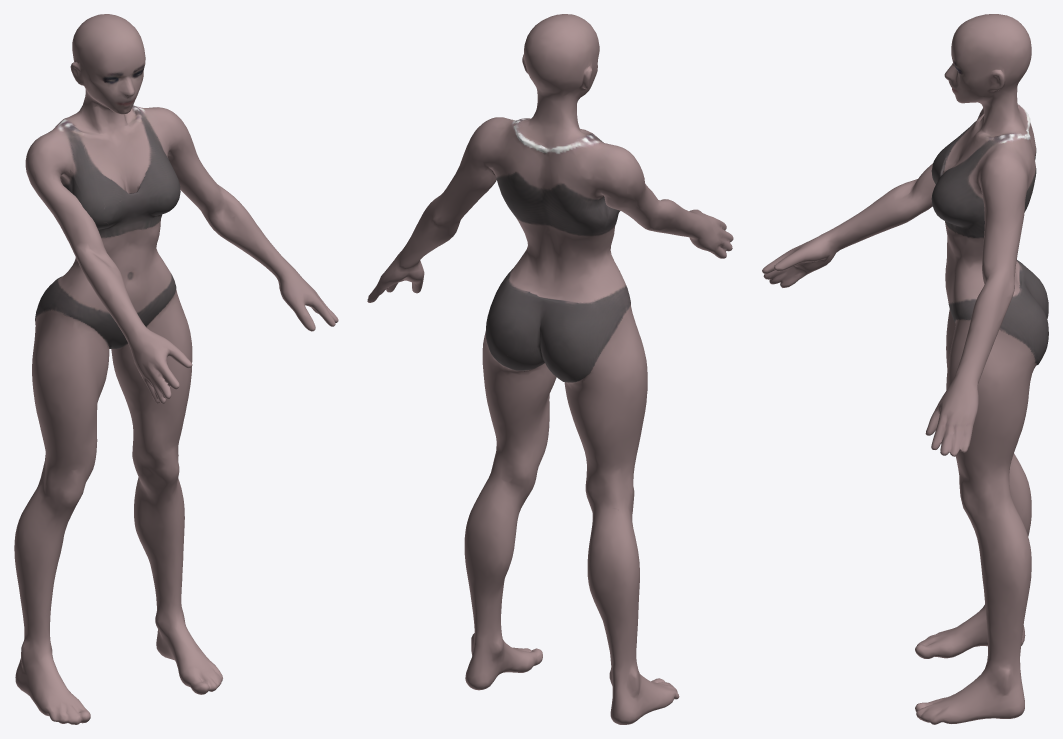
File: world_target-UpperArmL-45.glb
3 views of the same model, side by side, from view 1: azimuth 30°, elevation 25°; view 2: azimuth 150°, elevation 25°; view 3: azimuth 270°, elevation 25° (orthographic). The views are drawn at different scales.
Parts seen in each view (by area): view 1: world_target-UpperArmL-45; view 2: world_target-UpperArmL-45; view 3: world_target-UpperArmL-45.
Part boxes in pixels (left/top/right/bottom): world_target-UpperArmL-45: left=14, top=14, right=338, bottom=724; world_target-UpperArmL-45: left=367, top=14, right=733, bottom=724; world_target-UpperArmL-45: left=762, top=14, right=1048, bottom=724.
Bounding box in the file's own units: 0.4619 × 1 × 0.3895.
Materials: 1 (1 with a texture image).
